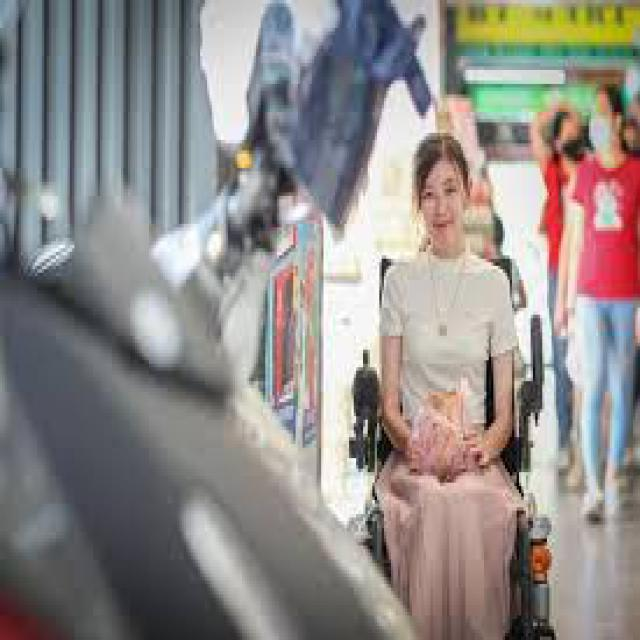wheelchairs: (340, 238, 564, 636)
